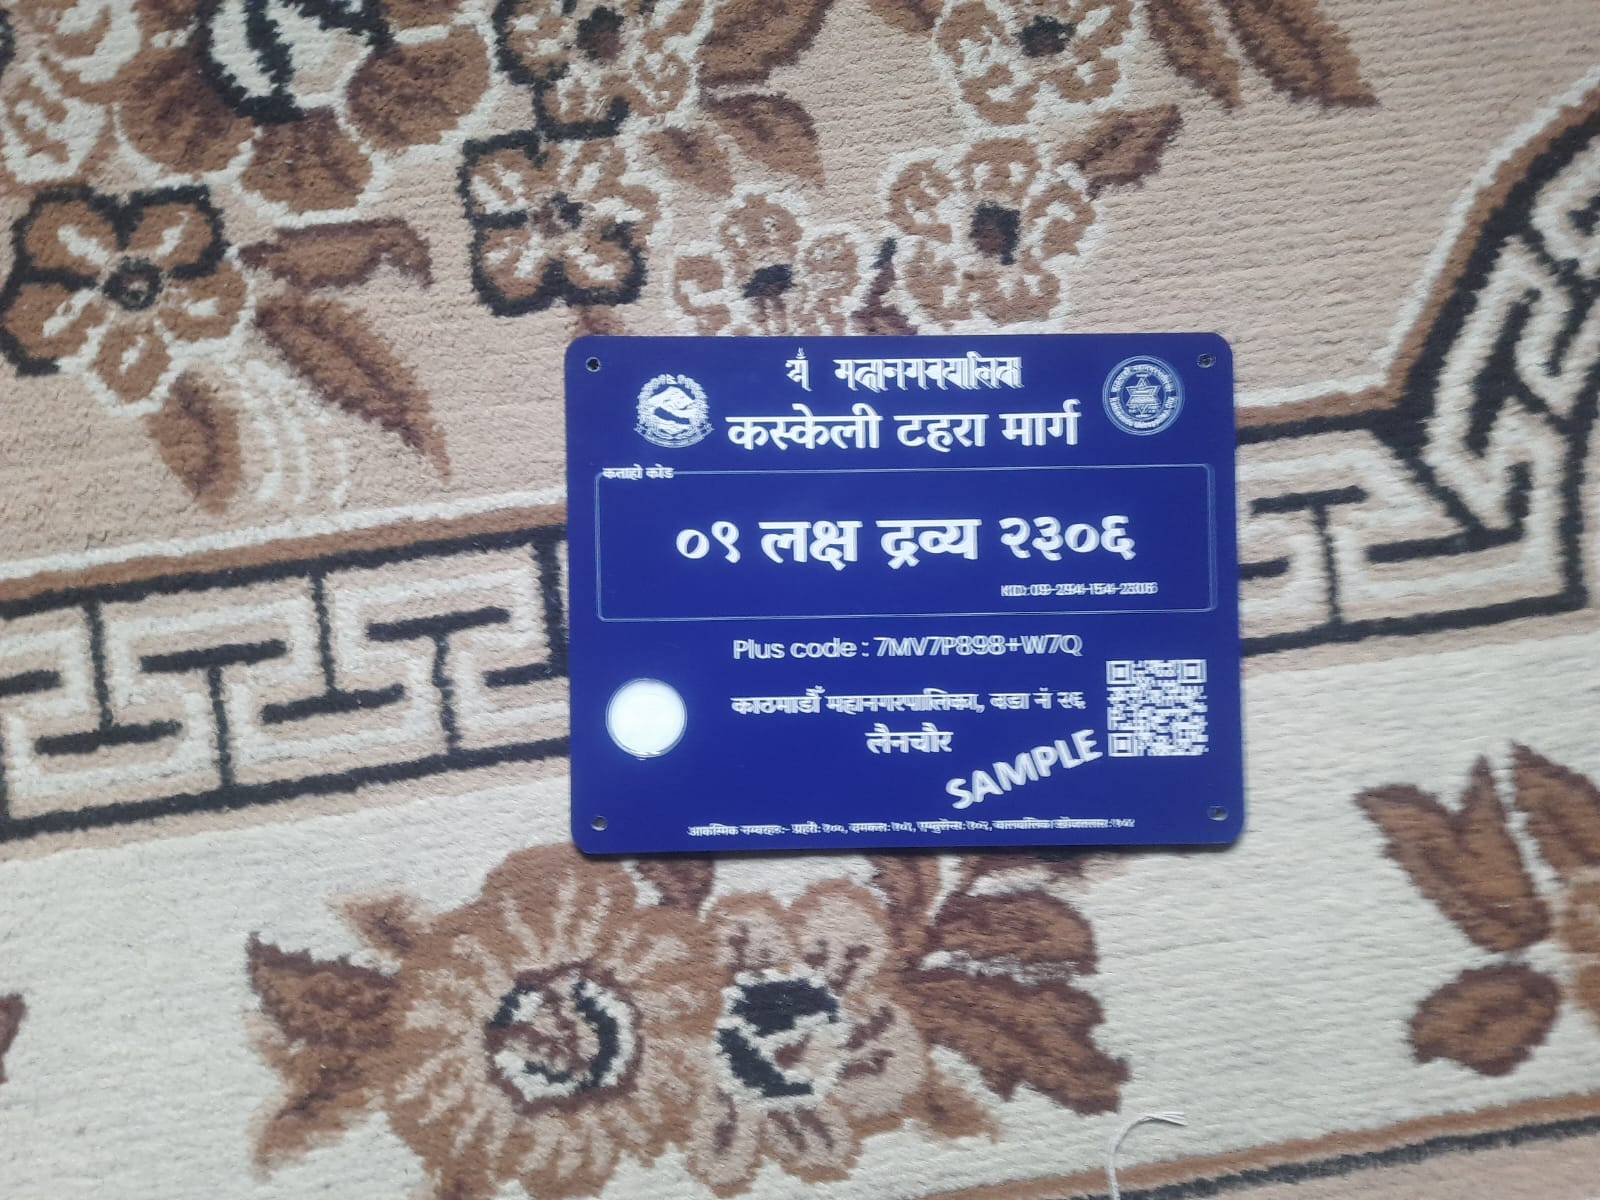Plate: (559, 327, 1252, 852)
